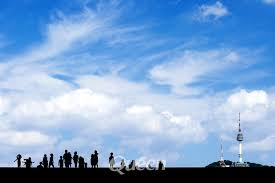sky: (2, 3, 262, 145)
